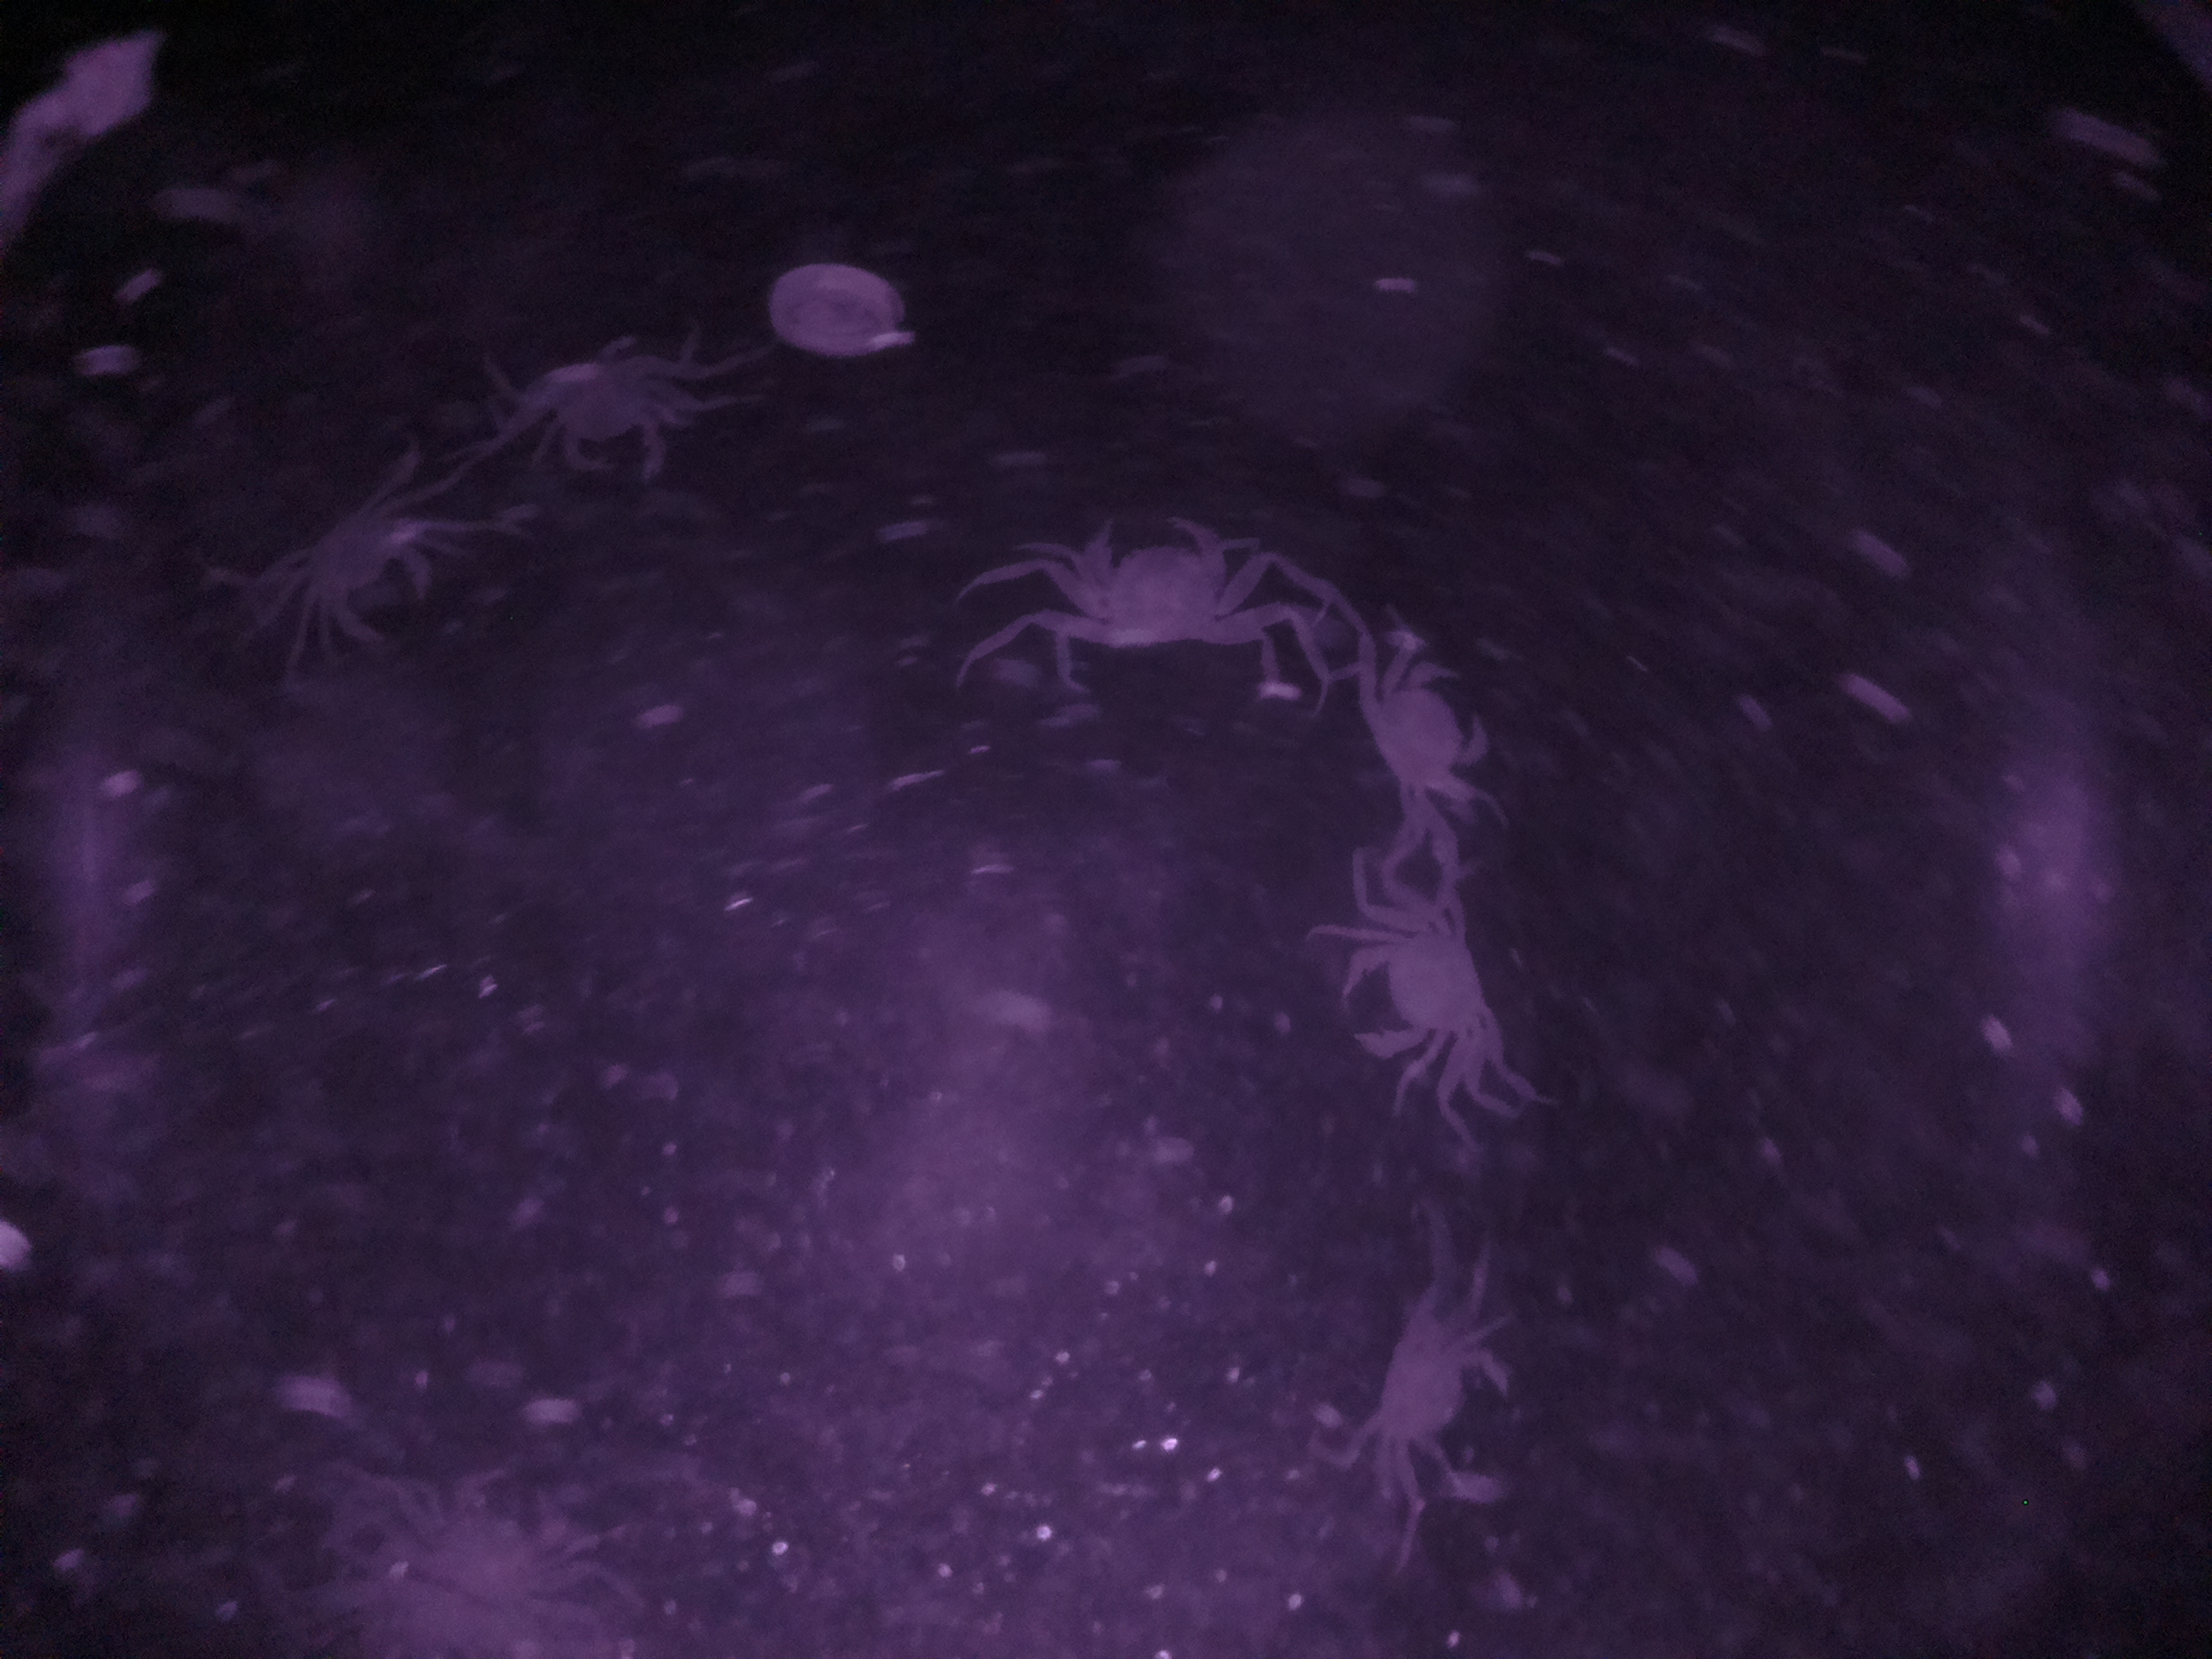Crab: (1343, 1267, 1521, 1527), (1325, 880, 1503, 1100), (1055, 497, 1263, 680), (1325, 636, 1507, 826)
